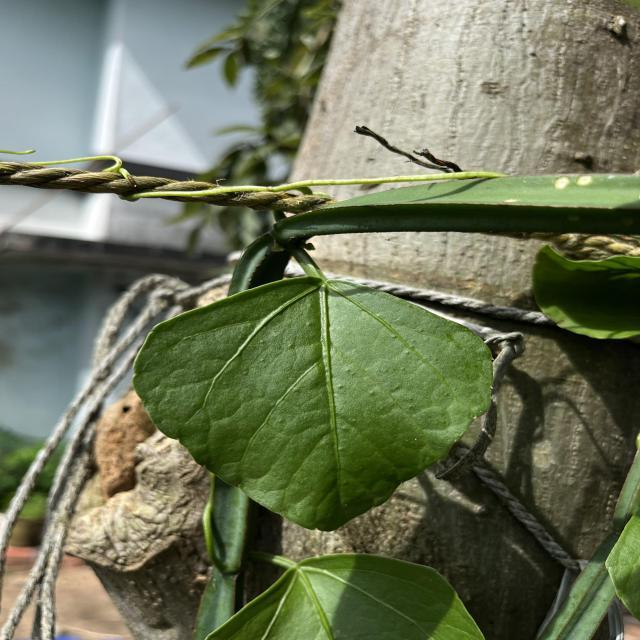Cissus quadrangularis: (130, 272, 497, 534)
